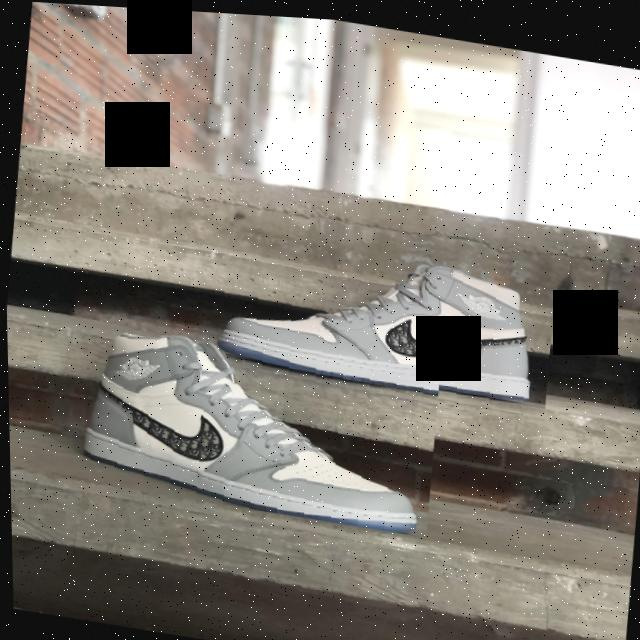shoe: (69, 306, 441, 533), (195, 202, 558, 412)
